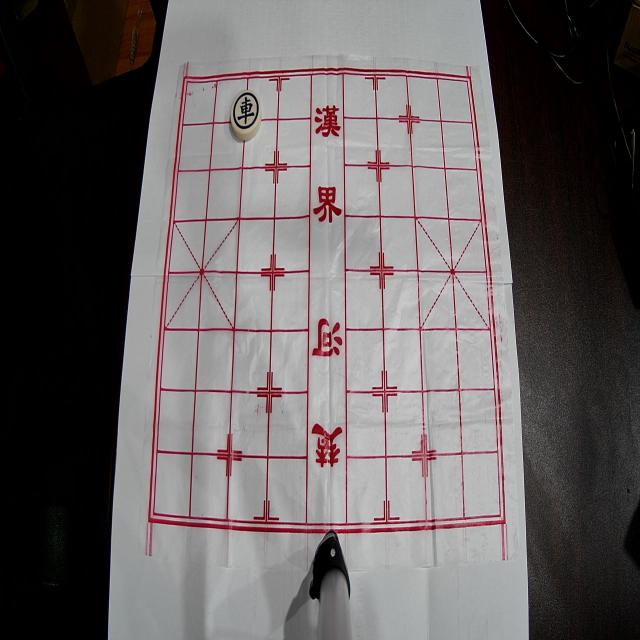black-chariot: (230, 90, 262, 140)
